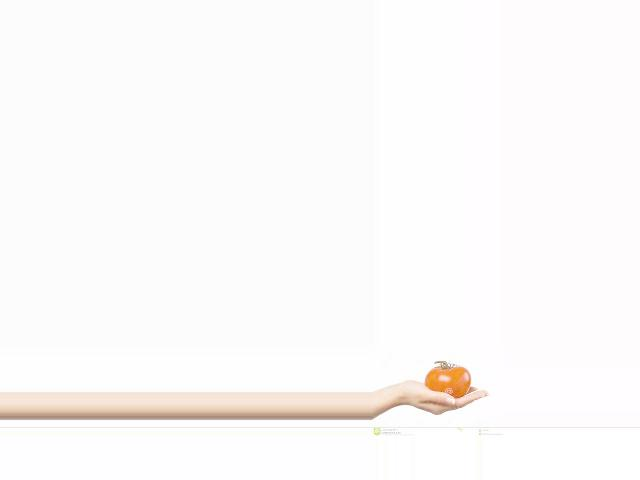tomato: (425, 366, 471, 398)
